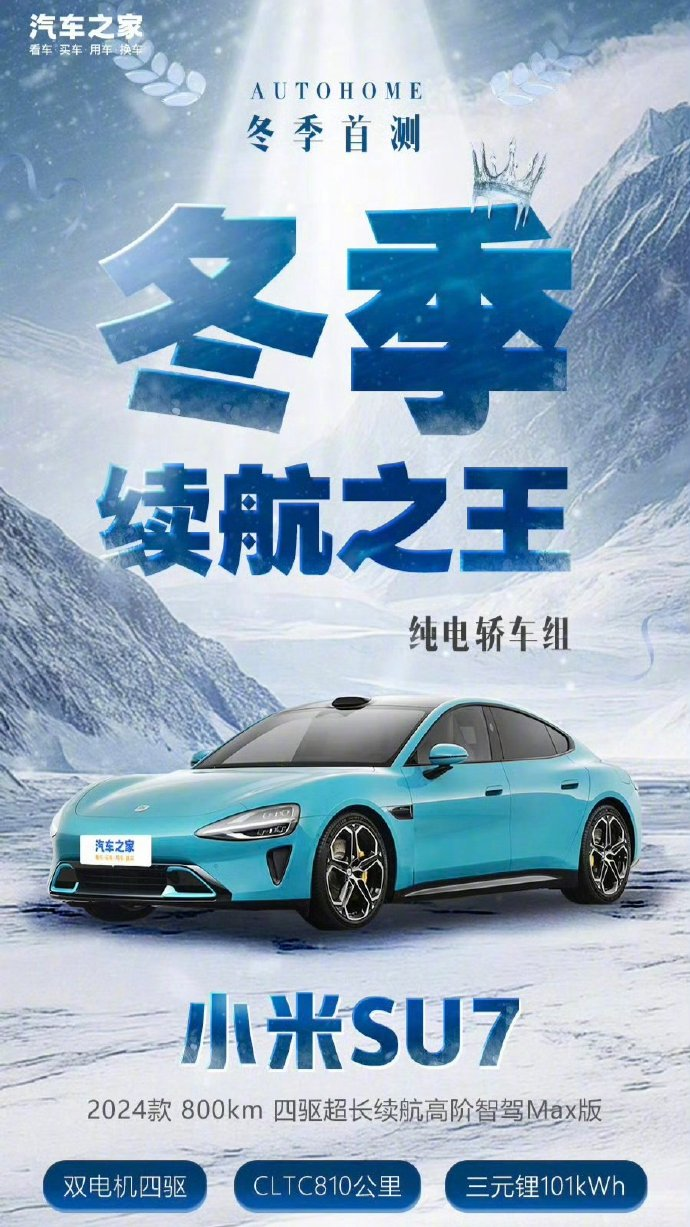su7: (47, 688, 646, 943)
